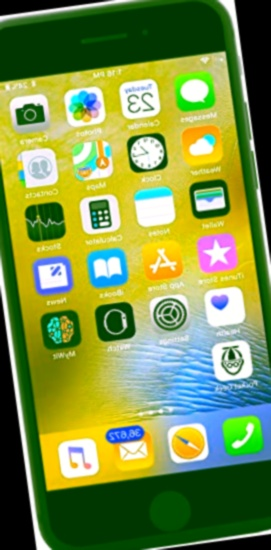iphone: (1, 3, 267, 548)
